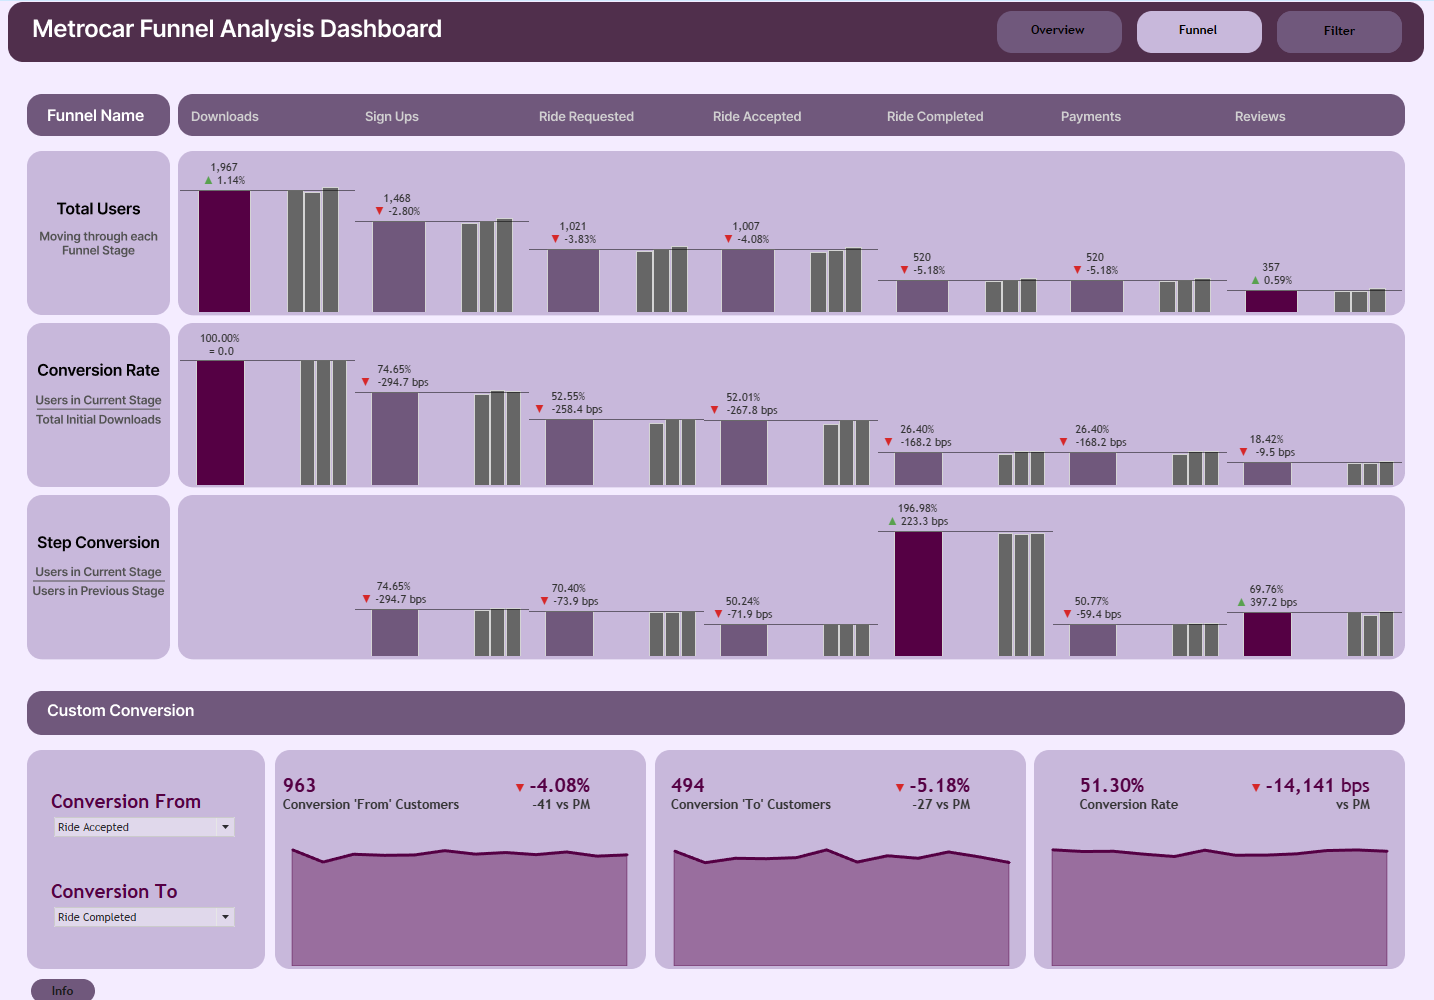

The dashboard page shown, as its layout file describes it:
{"tool":"tableau","page":{"name":"Funnel","canvas":[1440,1024],"ordinal":0},"visuals":[{"type":"image","param":"Image/funnel analysis bg-1.png","box":[0,0,1440,1024]},{"type":"dashboard-object","box":[1002,18,122,44]},{"type":"dashboard-object","box":[1141,18,122,44]},{"type":"dashboard-object","box":[1281,20,125,42]},{"type":"text","box":[1324,35,39,9]},{"type":"parameter","param":"[Parameters].[Parameter 1]","box":[1048,77,355,41]},{"type":"filter","title":"Funnel Users","param":"[federated.0r56aru03k6pxr18xaowb1vx4jrr].[qr:download_date:ok]","box":[1048,118,355,46.7]},{"type":"worksheet","title":"Funnel Users","mark":"Bar","rows":["Calculation_1535727526955728907"],"cols":["funnel_name","Calculation_1034983543437398018","Calculation_1535727526955261961"],"box":[182,161,1226,162]},{"type":"filter","title":"Funnel Users","param":"[federated.0r56aru03k6pxr18xaowb1vx4jrr].[none:age_range:nk]","box":[1048,164.7,355,46.7]},{"type":"filter","title":"Funnel Users","param":"[federated.0r56aru03k6pxr18xaowb1vx4jrr].[none:platform:nk]","box":[1048,211.3,355,46.7]},{"type":"worksheet","title":"Funnel Conversion Rate","mark":"Bar","rows":["Calculation_395190922211102739"],"cols":["funnel_name","Calculation_395190922148450312","Calculation_395190922148569098"],"box":[182,334,1226,162]},{"type":"worksheet","title":"Funnel Step Conversion","mark":"Bar","rows":["Calculation_395190922220843041"],"cols":["funnel_name","Calculation_395190922218901528","Calculation_395190922218930202"],"box":[182,505,1226,162]},{"type":"worksheet","title":"Conversion From KPI","mark":"Text","rows":["Calculation_496521912047079485"],"cols":["Calculation_496521912047079485","Calculation_1838876078378045450"],"box":[280,761,370,84]},{"type":"worksheet","title":"Conversion To KPI","mark":"Text","rows":["Calculation_496521912047079485"],"cols":["Calculation_496521912047079485","Calculation_1838876078378045450"],"box":[660,761,370,84]},{"type":"worksheet","title":"Custom Conversion Rate KPI","mark":"Text","rows":["Calculation_496521912047079485"],"cols":["Calculation_496521912047079485","Calculation_1838876078387896343"],"box":[1038,761,370,84]},{"type":"parameter","param":"[Parameters].[Parameter 3]","box":[51,795,195,75]},{"type":"worksheet","title":"Conversion From Trend","mark":"Automatic","rows":["user_count","user_count"],"cols":["download_date"],"box":[279,849,369,128]},{"type":"worksheet","title":"Conversion To Trend","mark":"Automatic","rows":["user_count","user_count"],"cols":["download_date"],"box":[661,849,369,128]},{"type":"worksheet","title":"Custom Conversion Rate Trend","mark":"Area","rows":["Calculation_1838876078385463313","Calculation_1838876078385463313"],"cols":["download_date"],"box":[1039,849,369,128]},{"type":"parameter","param":"[Parameters].[Conversion From  (copy)_1838876078383566864]","box":[51,885,195,75]},{"type":"text","box":[104,902,228,98]},{"type":"dashboard-object","box":[35,988,64,24]},{"type":"text","box":[47,995,39,9]}]}

Visuals, with their boxes in screenshot pixels (x1, y1, x2, y2), scaled from the page's 1440x1024 canvas onto the 1434x1000 screenshot:
image: [0, 0, 1433, 999]
dashboard-object: [998, 18, 1119, 61]
dashboard-object: [1136, 18, 1258, 61]
dashboard-object: [1276, 20, 1400, 61]
text: [1318, 34, 1357, 43]
parameter: [1044, 75, 1397, 115]
"Funnel Users" filter: [1044, 115, 1397, 161]
"Funnel Users" worksheet (Bar marks): [181, 157, 1402, 315]
"Funnel Users" filter: [1044, 161, 1397, 206]
"Funnel Users" filter: [1044, 206, 1397, 252]
"Funnel Conversion Rate" worksheet (Bar marks): [181, 326, 1402, 484]
"Funnel Step Conversion" worksheet (Bar marks): [181, 493, 1402, 651]
"Conversion From KPI" worksheet (Text marks): [279, 743, 647, 825]
"Conversion To KPI" worksheet (Text marks): [657, 743, 1026, 825]
"Custom Conversion Rate KPI" worksheet (Text marks): [1034, 743, 1402, 825]
parameter: [51, 776, 245, 850]
"Conversion From Trend" worksheet: [278, 829, 645, 954]
"Conversion To Trend" worksheet: [658, 829, 1026, 954]
"Custom Conversion Rate Trend" worksheet (Area marks): [1035, 829, 1402, 954]
parameter: [51, 864, 245, 938]
text: [104, 881, 331, 977]
dashboard-object: [35, 965, 99, 988]
text: [47, 972, 86, 980]
